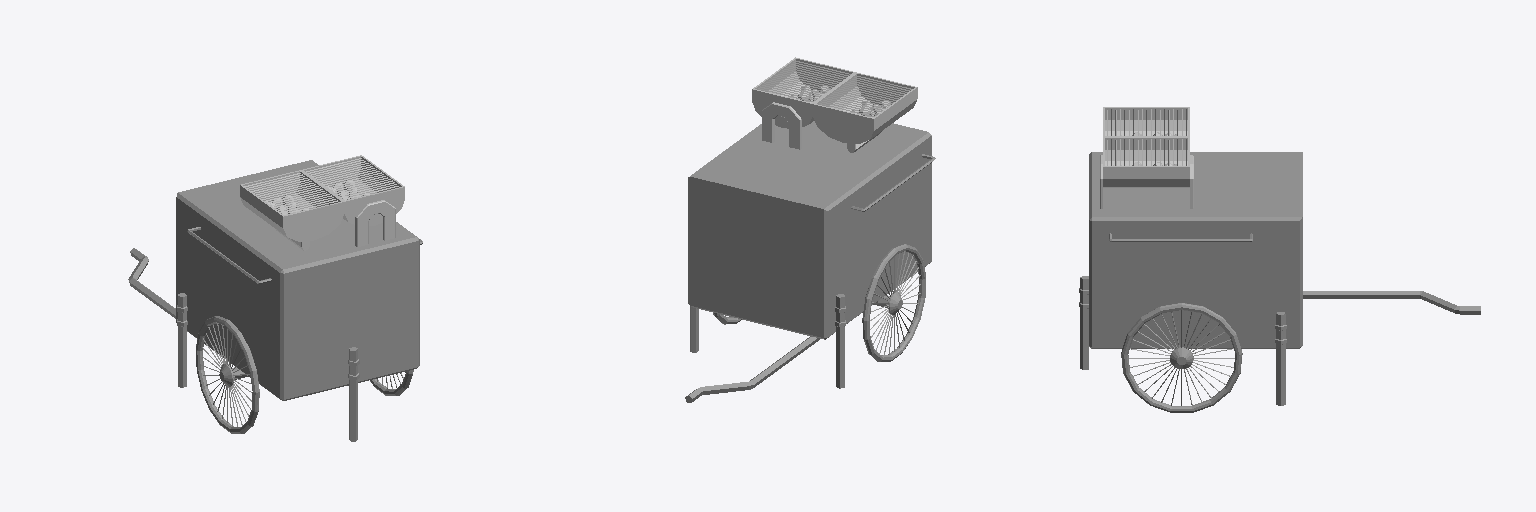
File: nakkivaunu.obj
The picture shows the model from 3 angles: view 1: azimuth 30°, elevation 25°; view 2: azimuth 150°, elevation 25°; view 3: azimuth 270°, elevation 25°; orthographic projection.
Visible parts, largest first — view 1: Nakkivaunu_Cube, Grilli_Icosphere, Renkaat_Cube.004, Luukku_Cube.001, Kromi_Cube.003, GrilliJalat_Icosphere.004; view 2: Nakkivaunu_Cube, Ovi_Cube.002, Grilli_Icosphere, Luukku_Cube.001, Renkaat_Cube.004, Kromi_Cube.003, GrilliJalat_Icosphere.004; view 3: Nakkivaunu_Cube, Grilli_Icosphere, Luukku_Cube.001, Renkaat_Cube.004, Kromi_Cube.003.
Boxes of the visible parts, x1=… form: Nakkivaunu_Cube: x1=176, y1=160, x2=419, y2=441; Grilli_Icosphere: x1=240, y1=155, x2=404, y2=241; Renkaat_Cube.004: x1=196, y1=316, x2=413, y2=433; Luukku_Cube.001: x1=181, y1=161, x2=315, y2=229; Kromi_Cube.003: x1=128, y1=222, x2=422, y2=387; GrilliJalat_Icosphere.004: x1=276, y1=200, x2=395, y2=250; Nakkivaunu_Cube: x1=688, y1=121, x2=931, y2=339; Ovi_Cube.002: x1=693, y1=183, x2=820, y2=314; Grilli_Icosphere: x1=752, y1=57, x2=917, y2=143; Luukku_Cube.001: x1=693, y1=139, x2=872, y2=213; Renkaat_Cube.004: x1=713, y1=244, x2=925, y2=361; Kromi_Cube.003: x1=685, y1=124, x2=935, y2=402; GrilliJalat_Icosphere.004: x1=762, y1=102, x2=881, y2=152; Nakkivaunu_Cube: x1=1079, y1=152, x2=1302, y2=369; Grilli_Icosphere: x1=1103, y1=107, x2=1189, y2=187; Luukku_Cube.001: x1=1199, y1=153, x2=1302, y2=215; Renkaat_Cube.004: x1=1121, y1=303, x2=1242, y2=412; Kromi_Cube.003: x1=1109, y1=233, x2=1480, y2=405.
Size of the model in its own units: 1.87 by 2.56 by 3.92.